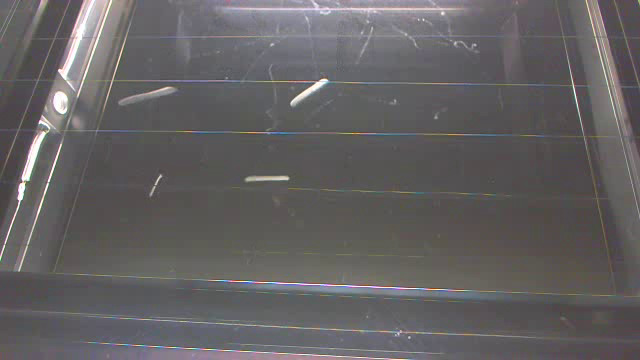alpha: (289, 77, 331, 109), (116, 86, 179, 107), (145, 171, 170, 199), (242, 174, 293, 184)
